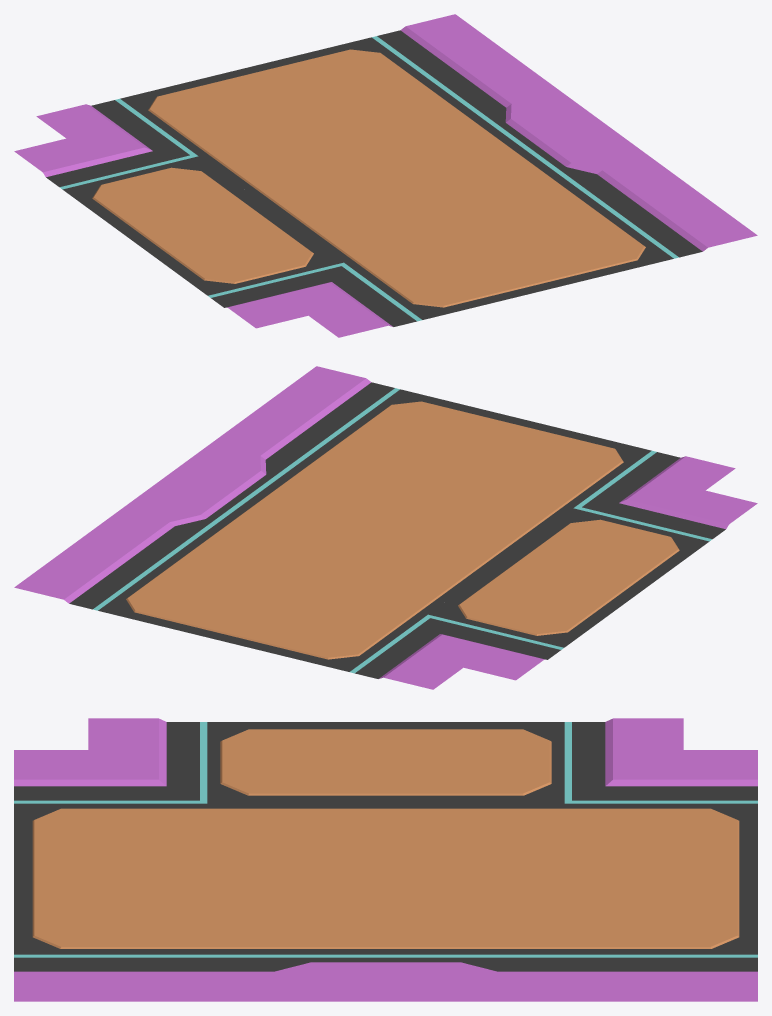
Rendered from HallFloorT_3rdFloor.fbx.
The picture shows the model from 3 angles, top to bottom: view 1: azimuth 30°, elevation 25°; view 2: azimuth 150°, elevation 25°; view 3: azimuth 270°, elevation 25°; orthographic projection. The views are drawn at different scales.
Visible parts, largest first — view 1: HallFloorT_ThirdFloor; view 2: HallFloorT_ThirdFloor; view 3: HallFloorT_ThirdFloor.
Part boxes in pixels (x1=…): HallFloorT_ThirdFloor: x1=14, y1=14, x2=757, y2=337; HallFloorT_ThirdFloor: x1=14, y1=366, x2=757, y2=689; HallFloorT_ThirdFloor: x1=14, y1=718, x2=757, y2=1001.
Bounding box in the file's own units: 9 × 0.0505 × 10.
